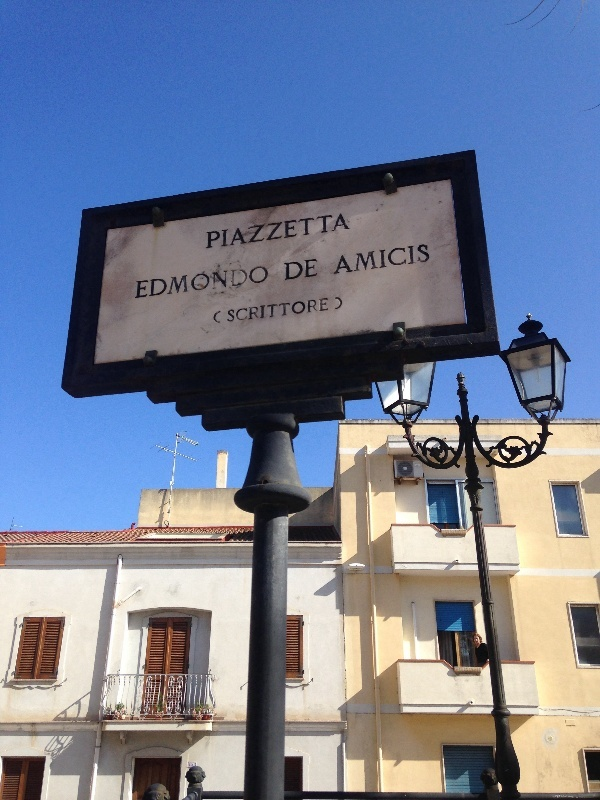text: (209, 211, 224, 251), (225, 211, 240, 251), (241, 211, 256, 251), (257, 211, 272, 251), (273, 211, 288, 251), (289, 211, 304, 251), (305, 211, 320, 251), (321, 211, 336, 251), (145, 263, 160, 302), (161, 263, 176, 302), (177, 263, 192, 302), (193, 263, 208, 302), (209, 263, 224, 302), (225, 263, 240, 302), (241, 263, 256, 302), (337, 211, 351, 251), (353, 241, 368, 277), (369, 241, 384, 277), (385, 241, 400, 277), (401, 241, 416, 277), (257, 263, 269, 302), (417, 241, 430, 277), (225, 295, 240, 325), (241, 295, 256, 325), (257, 295, 272, 325), (273, 295, 288, 325), (289, 295, 304, 325), (305, 295, 320, 325), (321, 295, 336, 325), (289, 255, 304, 283), (341, 241, 352, 277), (305, 255, 318, 283), (136, 263, 144, 302), (214, 295, 224, 325), (337, 295, 343, 325), (284, 255, 288, 283), (206, 211, 208, 251)
